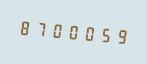eight: (17, 15, 32, 40)
five: (97, 22, 112, 47)
nine: (113, 23, 128, 48)
seven: (33, 16, 48, 41)
zero: (49, 17, 64, 43), (65, 19, 80, 44), (81, 20, 96, 45)
